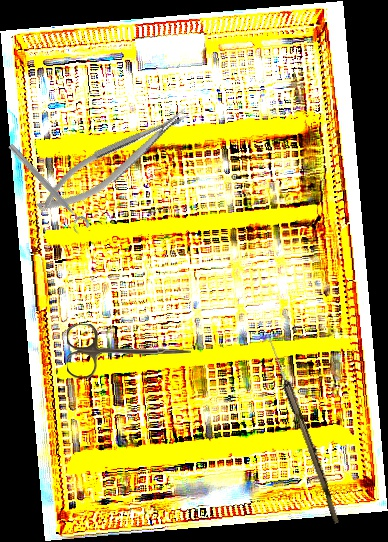Fixation Ring: (1, 141, 92, 237)
Iris Scissors: (66, 321, 192, 379)
Needle Holder: (28, 100, 200, 224)
Surgical Spoon: (262, 331, 344, 525)
